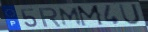4: (104, 4, 121, 27)
5: (20, 8, 39, 28)
M: (75, 4, 105, 27), (58, 7, 83, 27)
R: (37, 7, 63, 28)
U: (118, 3, 143, 26)
